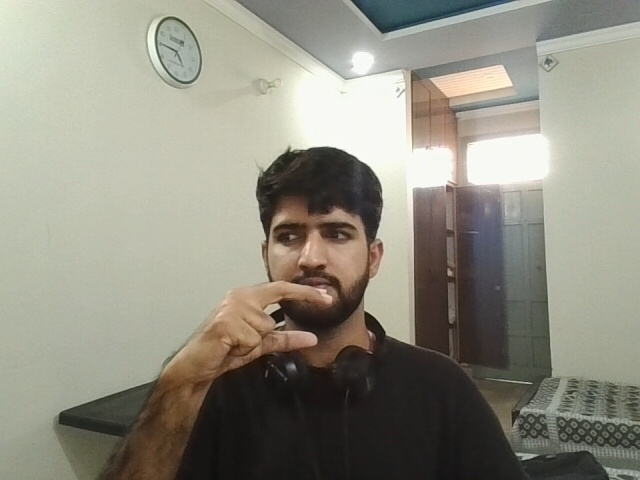No: (158, 270, 336, 398)
